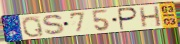5: (91, 8, 111, 33)
7: (69, 11, 87, 34)
H: (138, 5, 163, 29)
P: (118, 7, 140, 32)
Q: (21, 15, 45, 38)
S: (41, 14, 68, 36)
